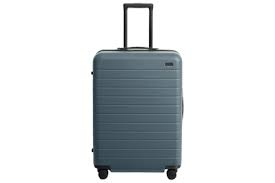suitcase: (92, 3, 183, 181)
